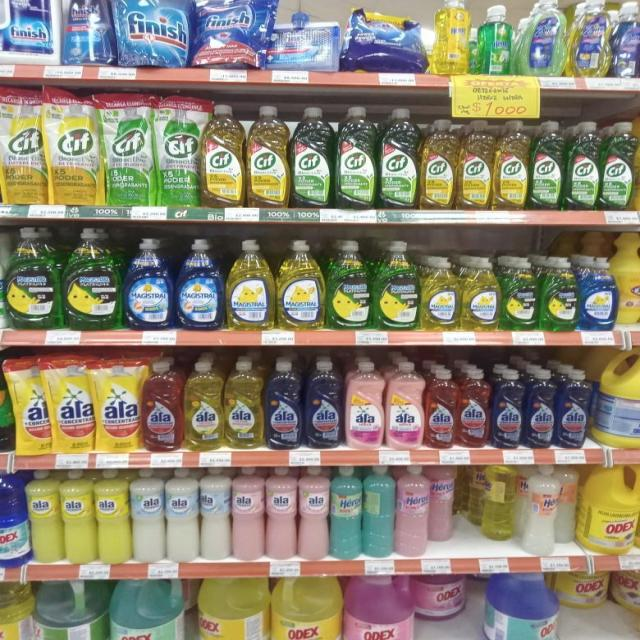ala_conc_amarillo: (225, 357, 263, 450), (185, 360, 222, 451)
ala_conc_azul: (266, 358, 303, 451), (305, 359, 342, 450), (557, 368, 590, 449), (492, 368, 524, 449), (525, 368, 556, 449)
ala_conc_rojo: (143, 360, 183, 452), (458, 368, 491, 448), (426, 367, 457, 450)
ala_crem_amarillo: (96, 468, 130, 564), (62, 468, 95, 565), (28, 469, 61, 565)
ala_crem_blanco: (131, 468, 164, 564), (166, 467, 198, 563), (200, 466, 230, 562)
ala_crem_rosado: (232, 466, 264, 562), (298, 465, 329, 561), (266, 465, 296, 561)
ala_sachet_amarillo: (96, 359, 142, 453), (52, 358, 94, 453), (14, 357, 51, 455)
ala_ultra_rosa: (344, 360, 384, 450), (387, 362, 424, 450)
cif_conc_bot_amarilla: (202, 102, 244, 208), (246, 104, 288, 208), (421, 117, 456, 211), (494, 118, 528, 211), (459, 118, 493, 211)
cif_conc_botella_verde: (291, 105, 333, 208), (336, 105, 376, 209), (379, 106, 419, 210), (601, 118, 635, 211), (566, 120, 600, 210), (530, 120, 564, 210)
cif_conc_sachet_amarillo: (47, 88, 101, 206), (0, 85, 45, 205)
cif_conc_sachet_verde: (103, 92, 154, 206), (155, 95, 200, 207)
heroe: (521, 464, 560, 556), (396, 465, 428, 558), (331, 465, 362, 561), (429, 464, 455, 545)
magistral_con_amarillo: (227, 238, 274, 331), (277, 239, 324, 330), (421, 256, 460, 331), (462, 255, 500, 331)
magistral_con_azul: (175, 237, 224, 330), (125, 236, 173, 330), (580, 256, 616, 330)
magistral_con_verde: (502, 256, 538, 331)
zorro: (521, 0, 568, 77), (570, 0, 611, 78)
